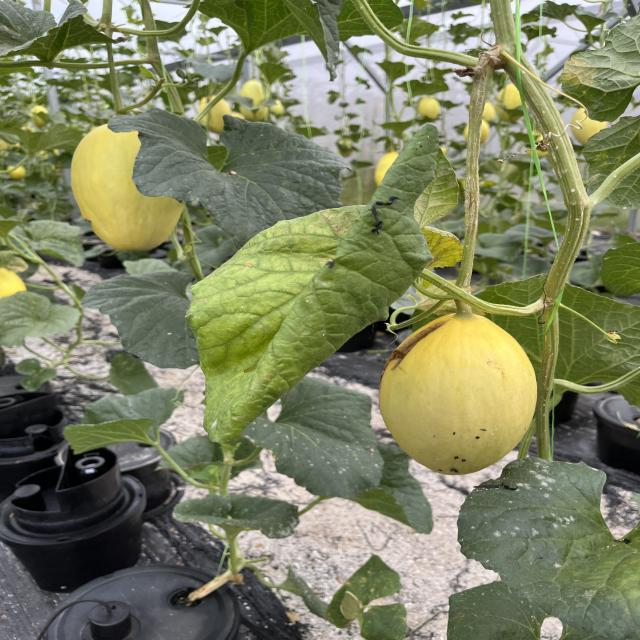downy mildew: (192, 208, 434, 448), (459, 451, 639, 640)
healthy: (102, 89, 357, 257)
powdery mildew: (450, 456, 640, 640)
